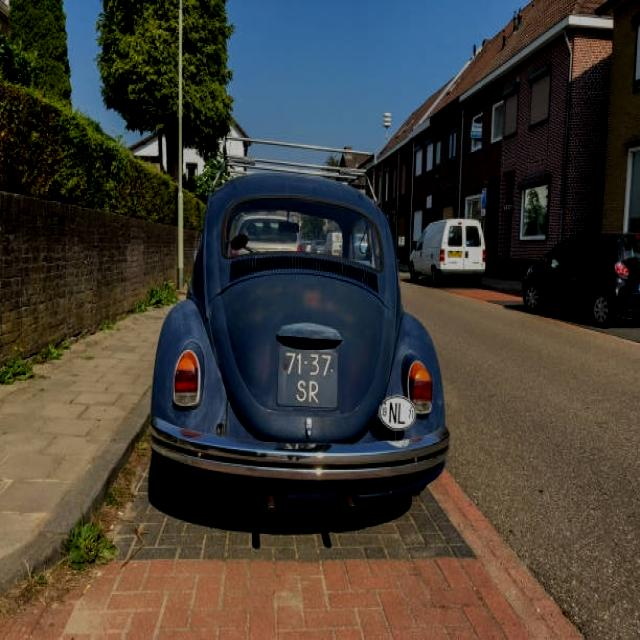car: (163, 160, 452, 507), (516, 229, 640, 327), (416, 217, 483, 287)
